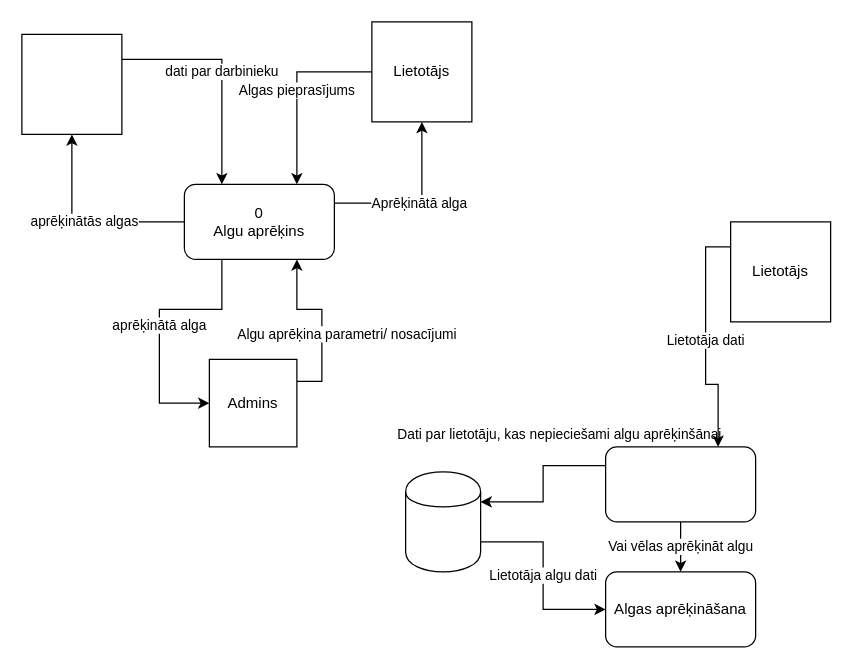
This 853x669 diagram has some shape labels left out. The centre of each missing label's shape, as x and y in pixels:
1 Lietotāja reģistrācija: point (680, 484)
D1 Lietotāju algu dati: point (442, 521)
Darbinieku un algu sistēma: point (71, 83)
